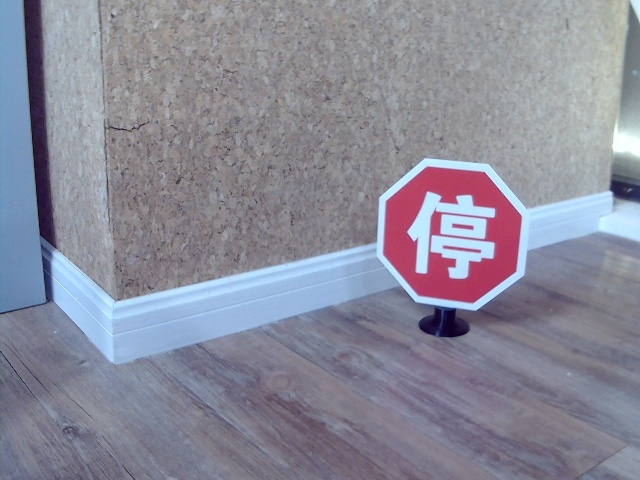stop: (407, 185, 496, 280)
